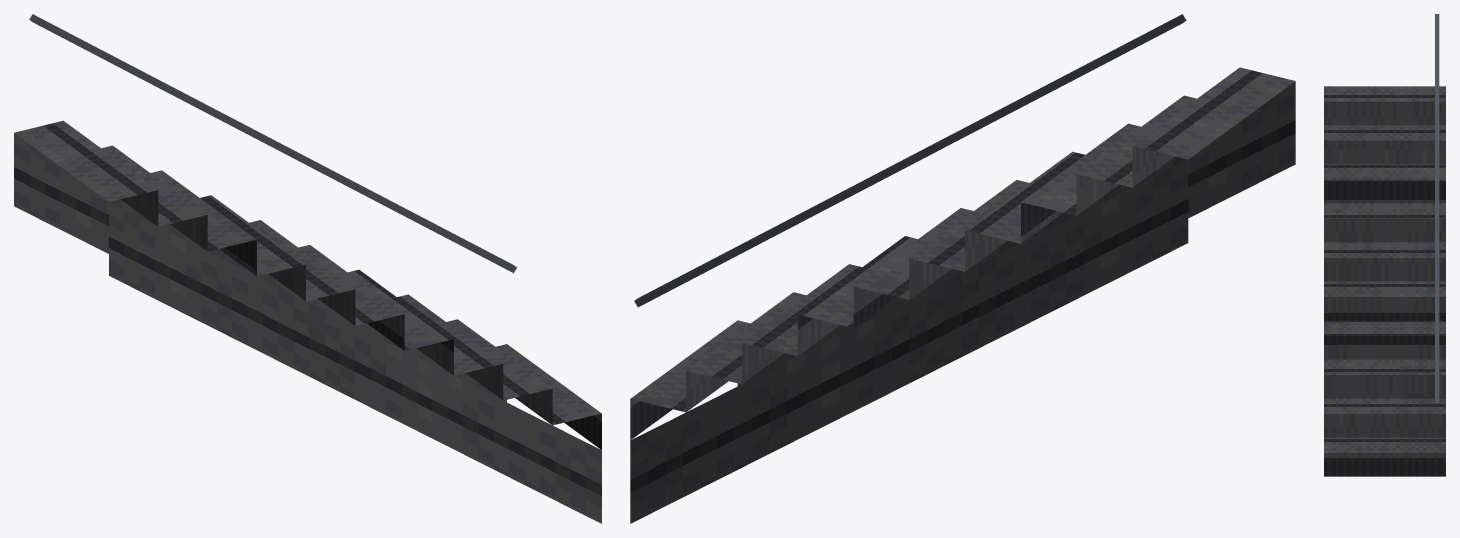
The model's file is mtn_steps.glb.
The picture shows the model from 3 angles, left to right: view 1: azimuth 30°, elevation 25°; view 2: azimuth 150°, elevation 25°; view 3: azimuth 270°, elevation 25°; orthographic projection. The views are drawn at different scales.
Visible parts, largest first — view 1: mtn_steps; view 2: mtn_steps; view 3: mtn_steps.
Part boxes in pixels (box(x1,y1,x2,y2)): mtn_steps: box(14, 14, 601, 523); mtn_steps: box(630, 14, 1295, 523); mtn_steps: box(1324, 14, 1445, 476).
Bounding box in the file's own units: 4.21 × 4.57 × 1.4.
2 materials, 2 textured.
